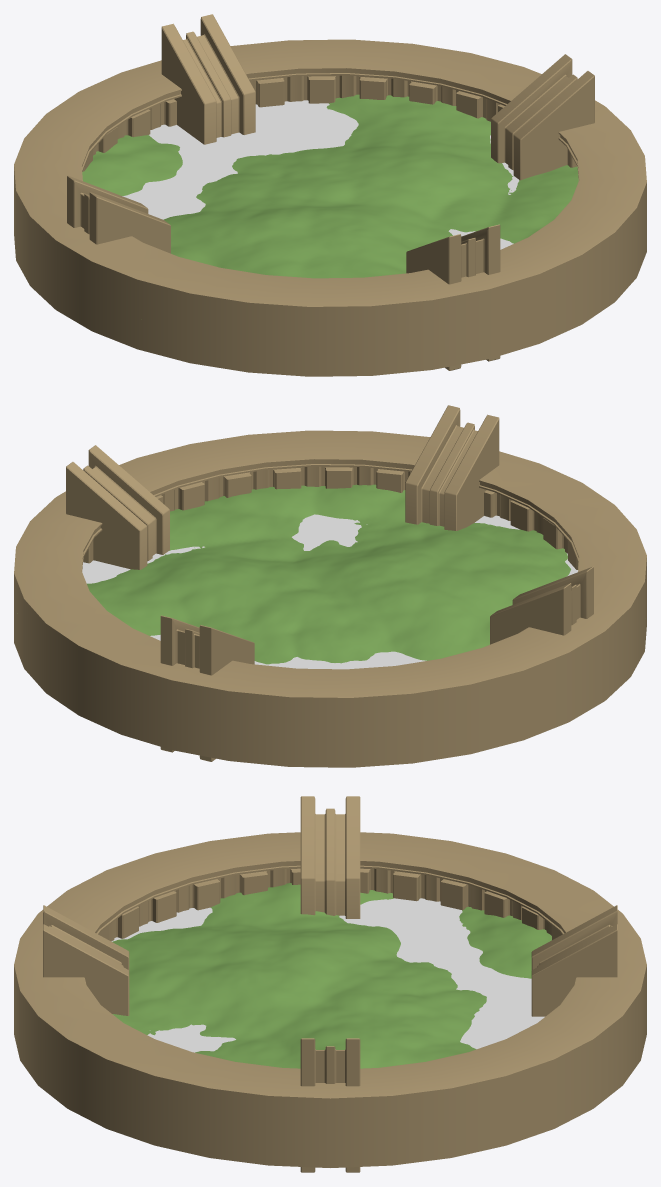
File: environment.fbx
3 renders of one model, top to bottom at view 1: azimuth 30°, elevation 25°; view 2: azimuth 150°, elevation 25°; view 3: azimuth 270°, elevation 25°, orthographic.
Parts seen in each view (by area): view 1: wall, terrain, waterplane, pylon3, pylon2, pylon4, pylon1; view 2: wall, terrain, pylon1, pylon2, pylon4, waterplane, pylon3; view 3: wall, terrain, waterplane, pylon4, pylon3, pylon1, pylon2.
Part boxes in pixels (x1,y1,x2,y2): wall: (14,39,646,376); terrain: (82,94,578,278); waterplane: (122,100,518,249); pylon3: (161,14,255,144); pylon2: (491,54,594,180); pylon4: (67,175,170,253); pylon1: (406,224,500,370); wall: (14,430,646,767); terrain: (17,484,570,664); pylon1: (405,405,499,530); pylon2: (66,445,169,569); pylon4: (490,566,593,644); waterplane: (82,514,578,669); pylon3: (160,615,254,761); wall: (14,832,646,1167); terrain: (112,883,551,1068); waterplane: (111,898,544,1052); pylon4: (300,796,360,918); pylon3: (531,905,617,1016); pylon1: (43,905,129,1015); pylon2: (300,1038,360,1172).
Bounding box in the file's own units: 21806 × 5104 × 21806.
